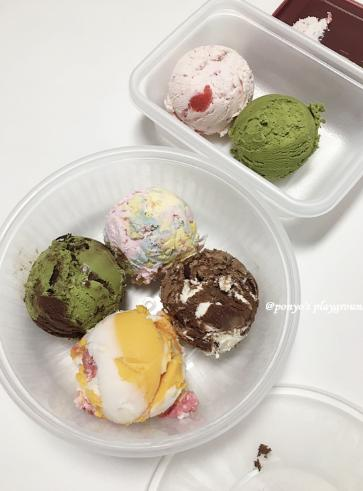Lunch Box: (0, 146, 299, 456), (130, 0, 362, 217)
